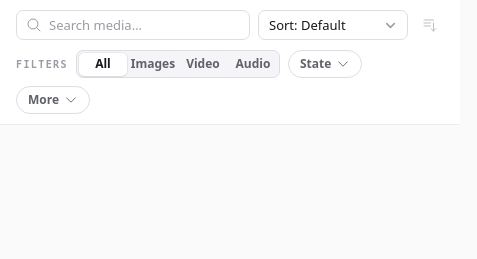
Test: FilterToolbar Component › counts an active format in the More badge
The width and height of the screenshot is (477, 259).
Click the button "More" at (53, 100), box [16,86,90,114]
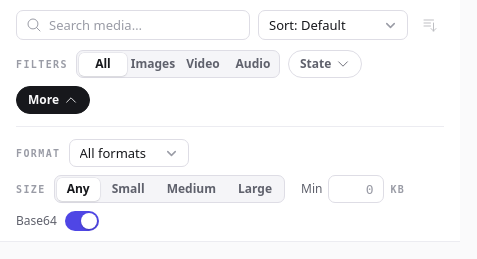
Select "PNG" in the dropdown named "Media format" at (128, 153), box [68,139,188,167]
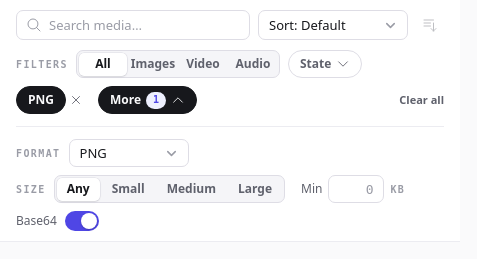
Now the text "1" is shown, box [146,92,166,108]
